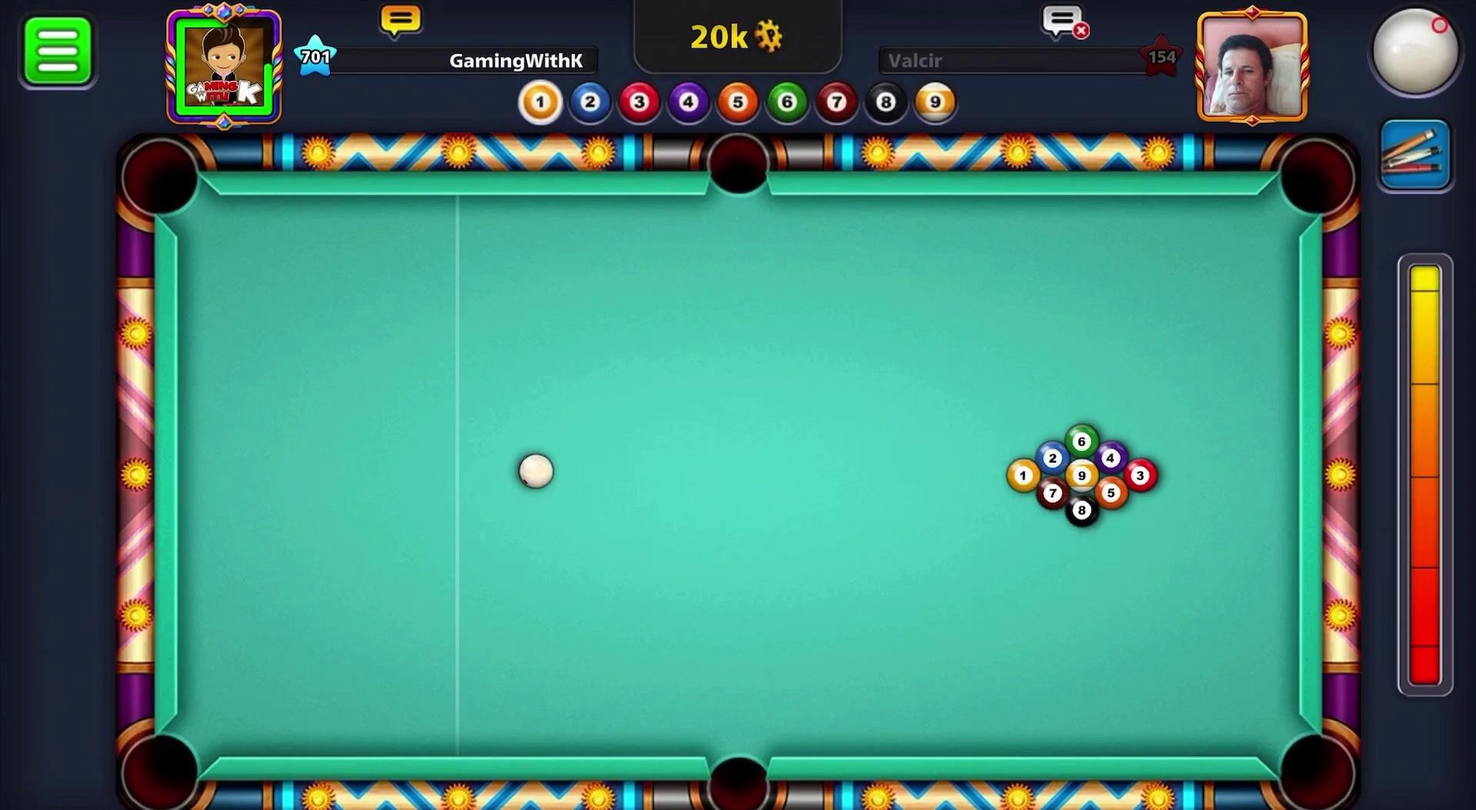Ball: (1122, 456, 1161, 495), (1062, 455, 1100, 495), (1004, 453, 1041, 493), (1034, 475, 1070, 512), (1064, 420, 1099, 457), (1093, 474, 1128, 511), (1063, 493, 1100, 527), (1096, 439, 1130, 474), (1036, 440, 1068, 475)
Force: (1392, 247, 1461, 699)
Hole: (108, 128, 212, 228), (1270, 129, 1364, 231), (1265, 715, 1364, 809), (111, 720, 210, 809), (685, 734, 785, 809), (701, 124, 776, 204)
Play_Area: (172, 191, 1298, 761)
Spin: (1345, 0, 1475, 114)
White: (512, 450, 557, 491)
